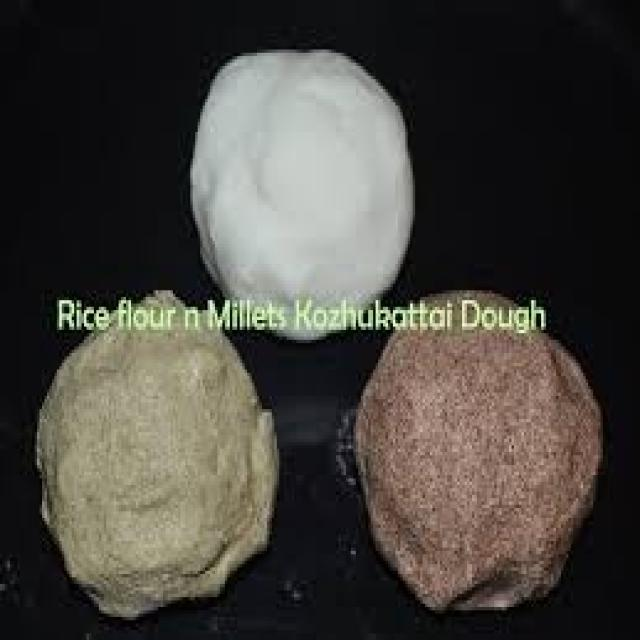poorna kolukattai: (185, 22, 437, 302)
